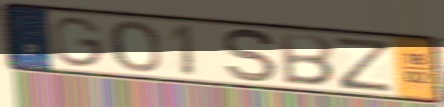1: (168, 22, 196, 79)
B: (279, 31, 337, 88)
G: (49, 15, 107, 70)
O: (107, 19, 164, 74)
S: (221, 27, 280, 85)
Z: (332, 35, 395, 95)
